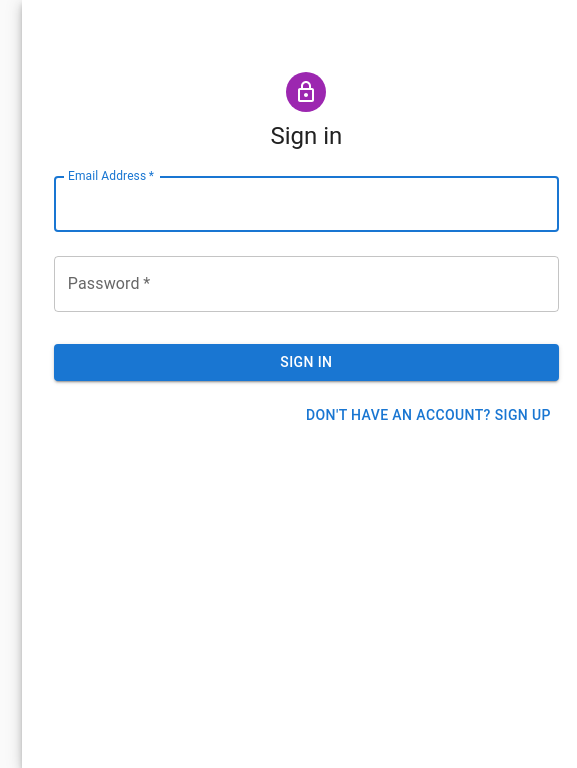
UserLoginForm › displays errors for invalid form data
Click the button "Sign In": click(306, 362) [54,344,559,380]
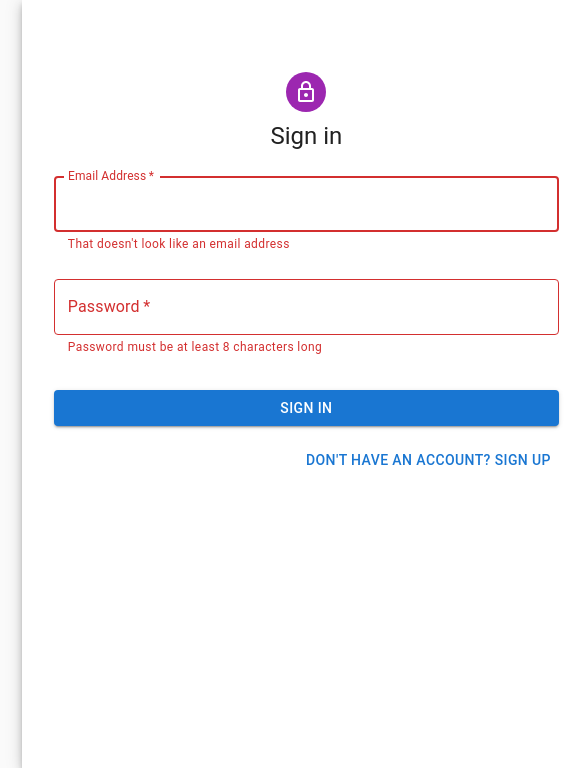
Now the text "That doesn't look like an email address" is shown, box [68,237,290,251]
Now the text "Password must be at least 8 characters long" is shown, box [68,340,322,354]
